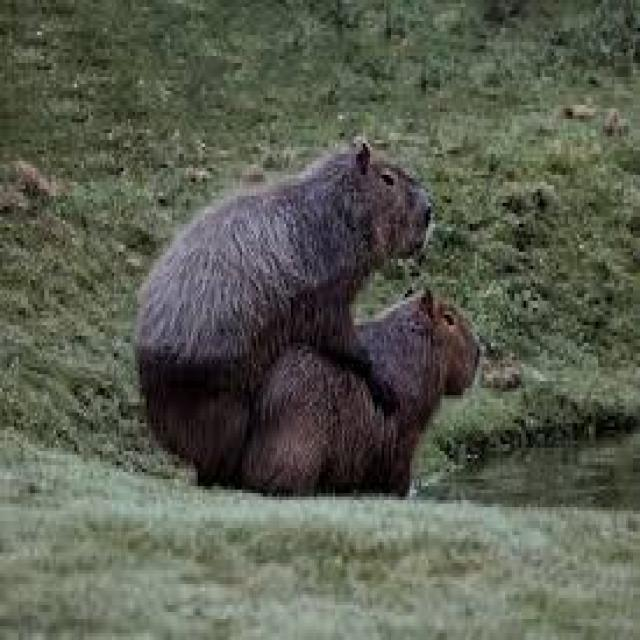capy: (134, 135, 433, 469), (243, 286, 482, 498)
